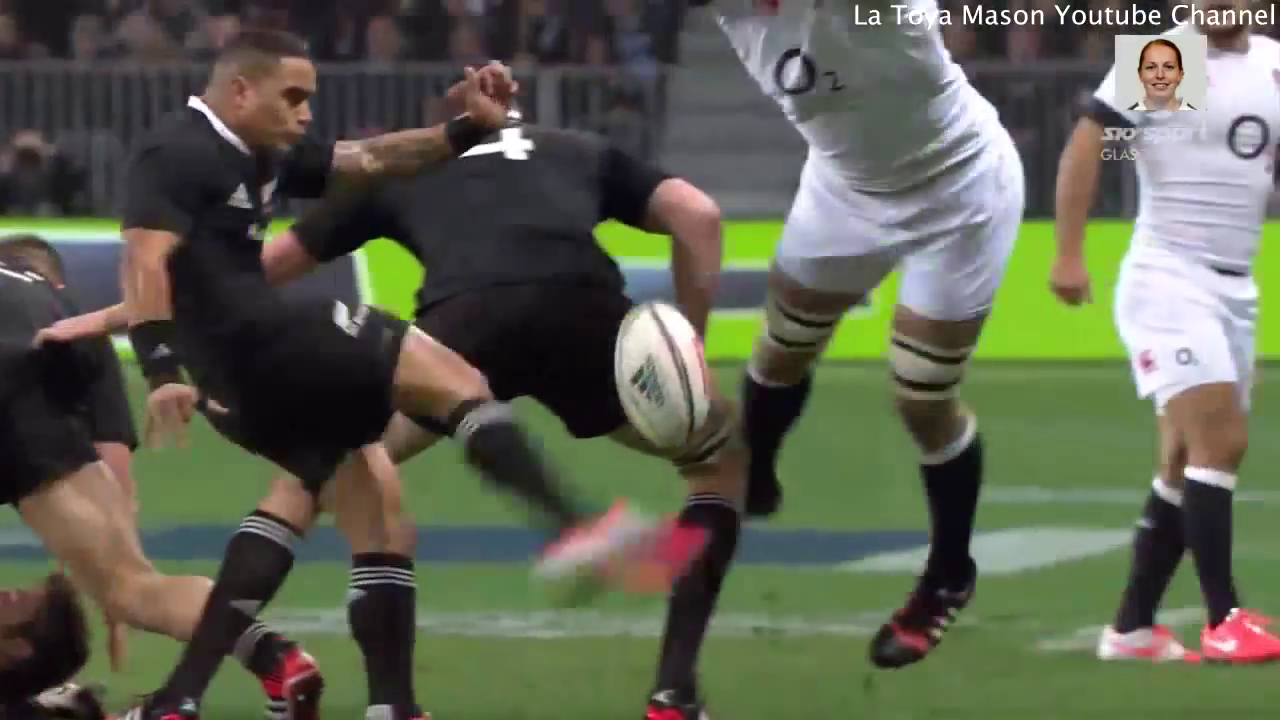ball: (605, 295, 723, 454)
player: (117, 25, 683, 719), (701, 1, 1030, 652), (342, 110, 740, 596), (1049, 1, 1280, 664), (1, 232, 202, 632)
